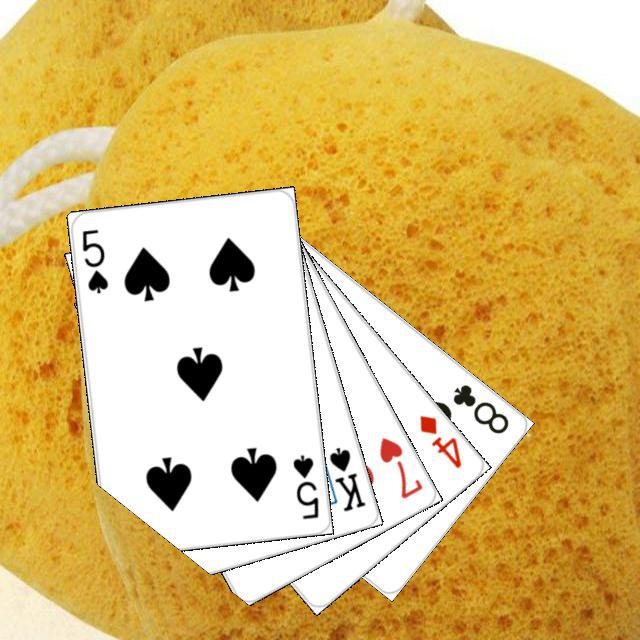4d: (414, 410, 463, 470)
5s: (288, 449, 321, 521), (77, 224, 110, 295)
7h: (374, 432, 425, 501)
8c: (447, 379, 511, 436)
Ks: (324, 442, 367, 514)
